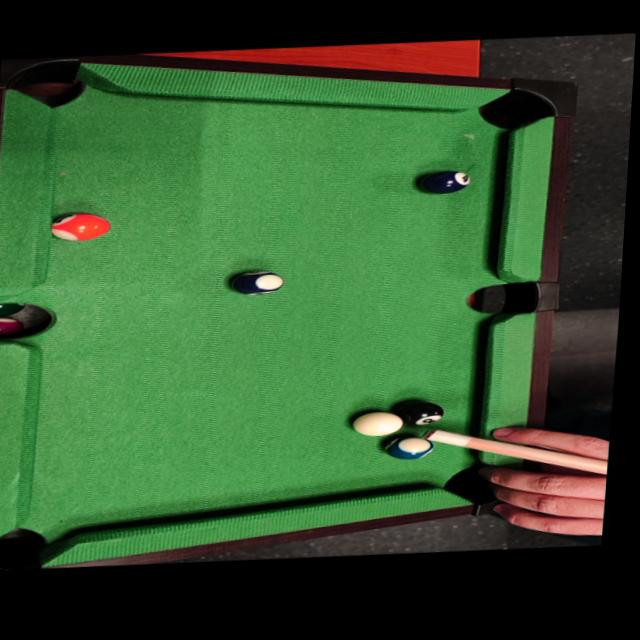cue ball: (348, 407, 410, 440)
other: (44, 206, 117, 243), (410, 164, 480, 195), (386, 397, 448, 430), (226, 265, 286, 298), (382, 433, 439, 463)
